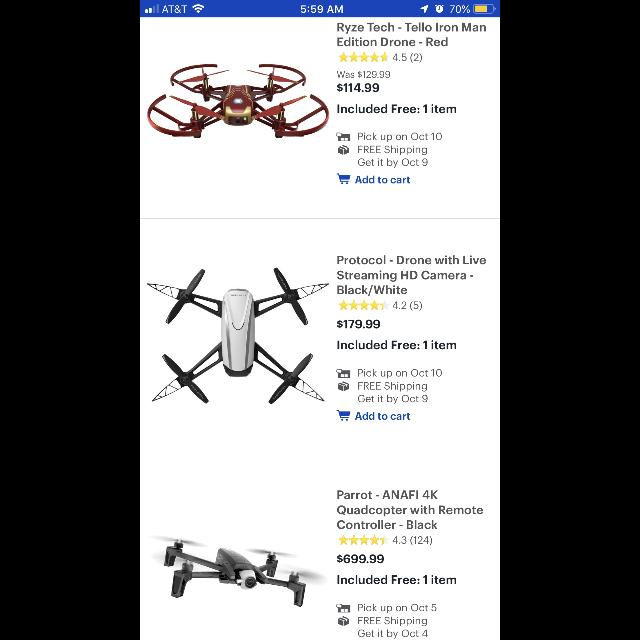icon: (338, 535, 389, 545), (338, 300, 389, 310), (338, 52, 389, 62), (337, 411, 351, 422), (336, 173, 350, 184)
image: (147, 268, 329, 404), (147, 64, 329, 138), (150, 534, 326, 608), (336, 132, 350, 142), (336, 604, 350, 612), (336, 369, 350, 377), (338, 616, 348, 626), (338, 381, 348, 391), (338, 145, 348, 155)
text: (336, 256, 486, 296), (337, 490, 483, 530), (338, 23, 486, 47), (358, 132, 442, 168), (358, 370, 442, 404), (358, 604, 437, 638), (338, 340, 457, 350), (338, 105, 457, 114), (338, 576, 457, 584), (336, 554, 384, 564), (356, 176, 410, 184), (356, 412, 410, 420), (392, 536, 432, 546), (337, 84, 379, 92), (338, 320, 380, 328), (336, 72, 390, 78), (392, 53, 422, 63), (392, 301, 422, 311)
uppertaskbar: (140, 1, 500, 18)
